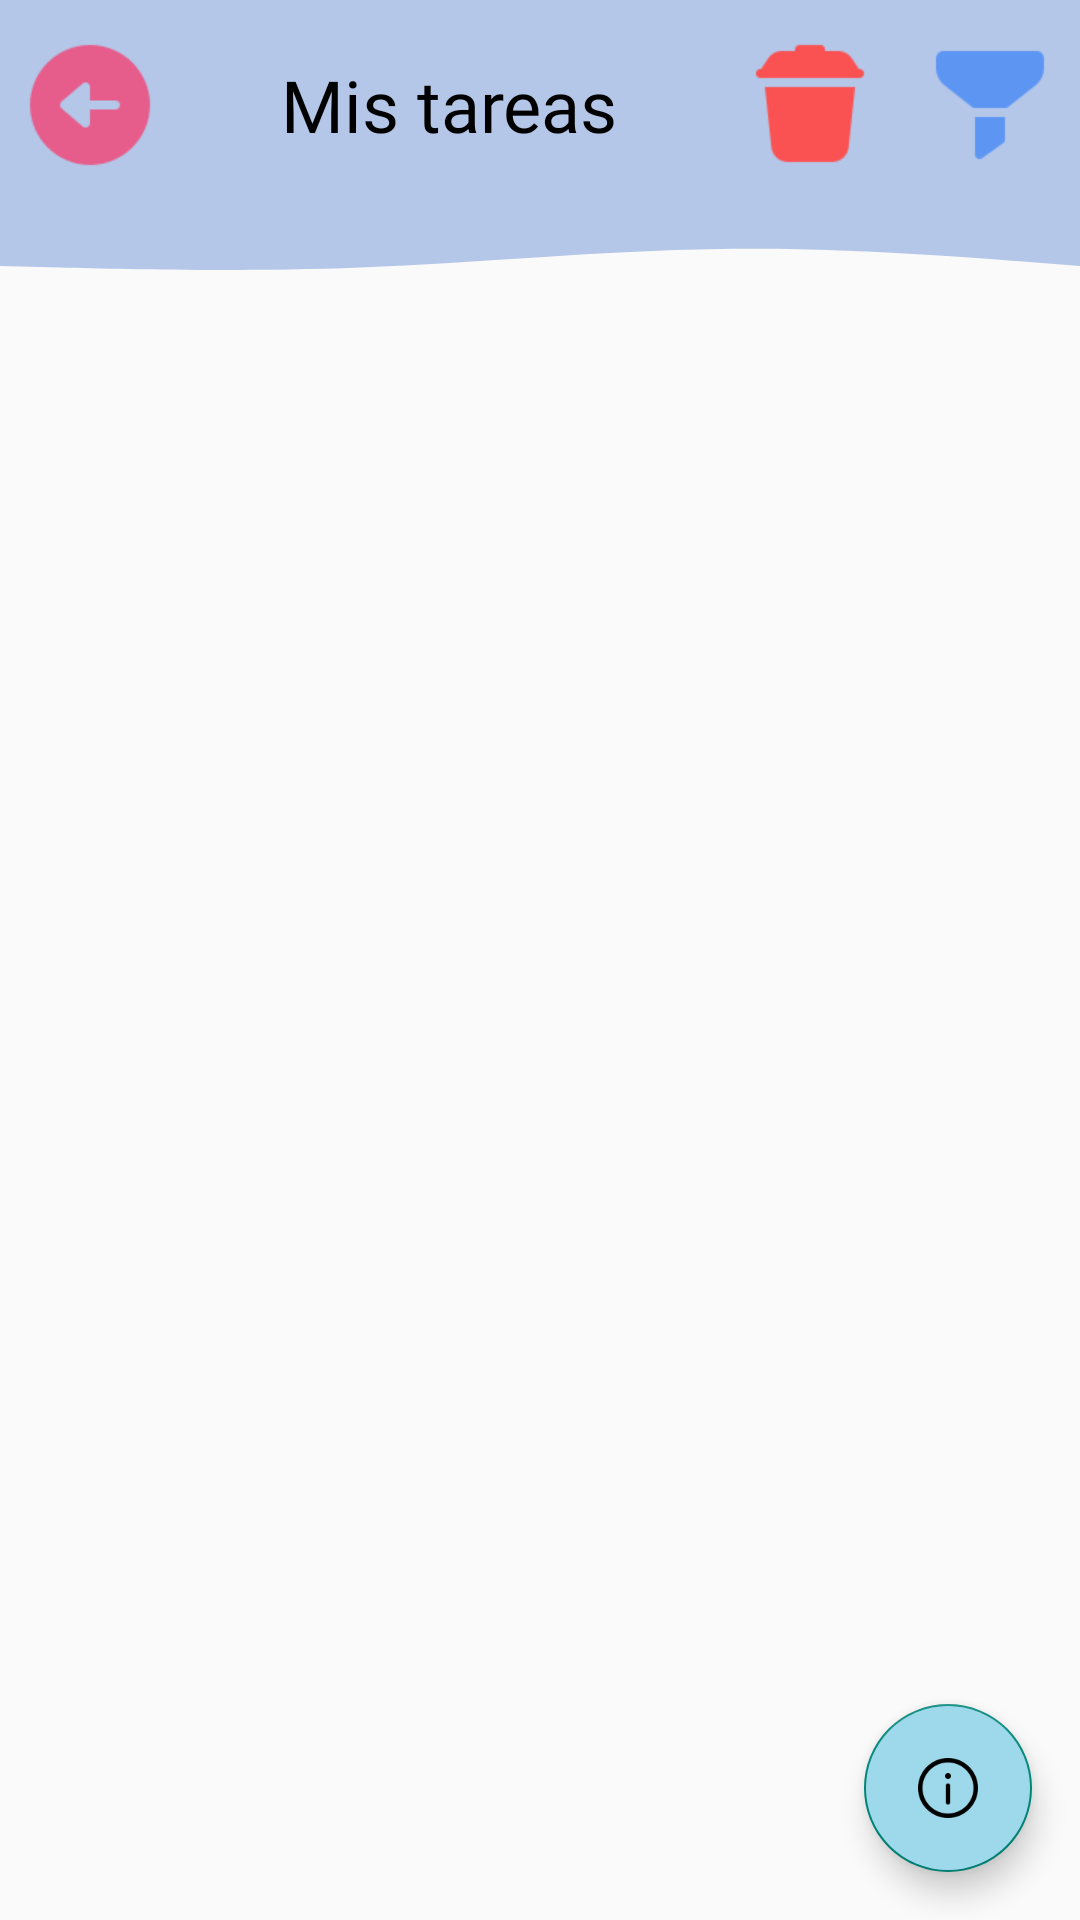

Where icons sit on this 1080px×1920px app screen, as bbox(x1, y1, x2, y2):
eliminartodo: bbox(755, 44, 865, 163)
filtrar: bbox(936, 51, 1044, 159)
info: bbox(864, 1704, 1032, 1872)
salir: bbox(30, 45, 150, 165)
